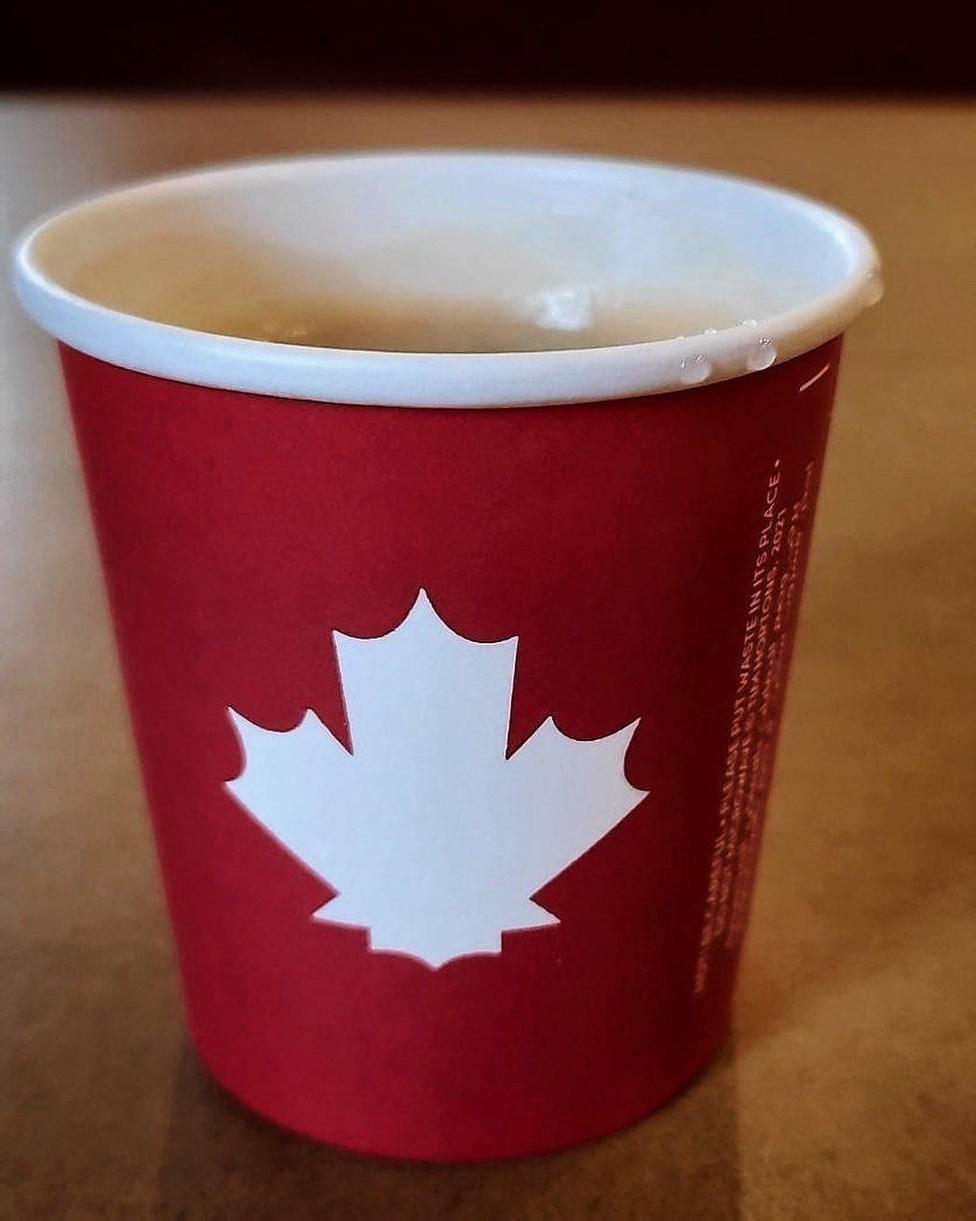cup-disposable: (0, 126, 899, 1163)
